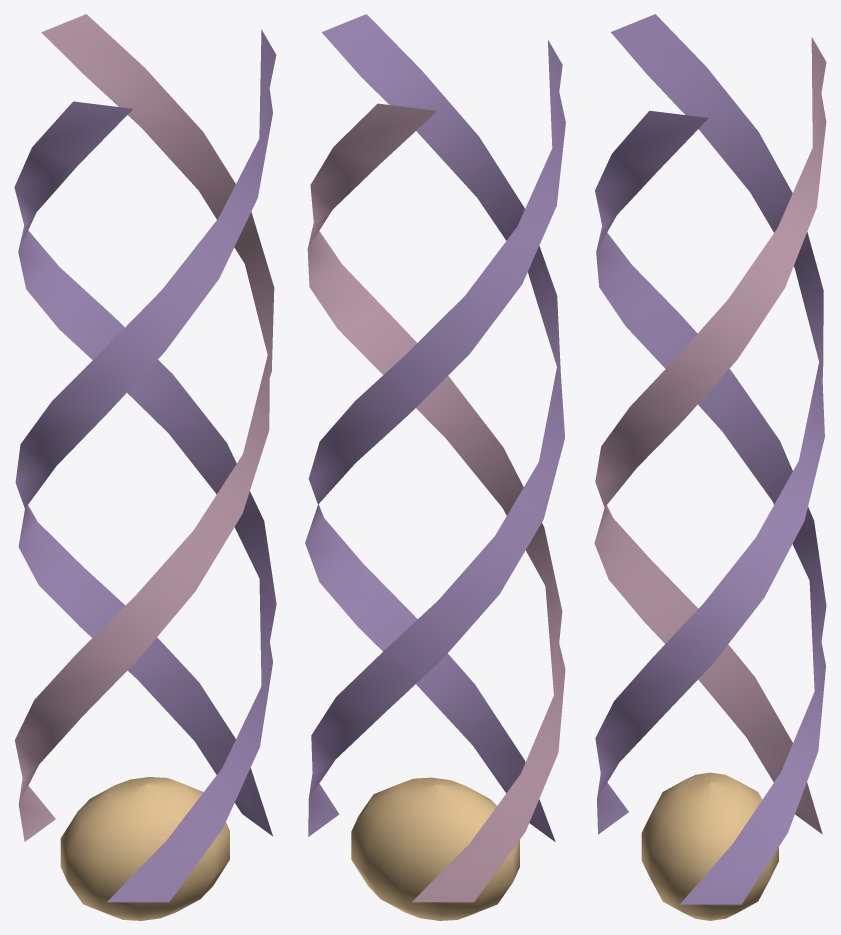
Rendered from orn_breeze_ribbon.glb.
3 views of the same model, side by side, from view 1: azimuth 30°, elevation 25°; view 2: azimuth 150°, elevation 25°; view 3: azimuth 270°, elevation 25° (orthographic).
Visible parts, largest first — view 1: ORN_breeze_ribbon_floating_silk_1, ORN_breeze_ribbon_floating_silk_0, ORN_breeze_ribbon_floating_silk_2, ORN_breeze_ribbon_knot; view 2: ORN_breeze_ribbon_floating_silk_0, ORN_breeze_ribbon_floating_silk_2, ORN_breeze_ribbon_floating_silk_1, ORN_breeze_ribbon_knot; view 3: ORN_breeze_ribbon_floating_silk_2, ORN_breeze_ribbon_floating_silk_1, ORN_breeze_ribbon_floating_silk_0, ORN_breeze_ribbon_knot.
Boxes of the visible parts, box(x1,y1,x2,y2) form: ORN_breeze_ribbon_floating_silk_1: box(15, 14, 274, 841); ORN_breeze_ribbon_floating_silk_0: box(15, 29, 276, 836); ORN_breeze_ribbon_floating_silk_2: box(14, 101, 276, 902); ORN_breeze_ribbon_knot: box(60, 777, 229, 920); ORN_breeze_ribbon_floating_silk_0: box(308, 14, 564, 836); ORN_breeze_ribbon_floating_silk_2: box(305, 40, 565, 841); ORN_breeze_ribbon_floating_silk_1: box(307, 103, 565, 902); ORN_breeze_ribbon_knot: box(351, 777, 519, 920); ORN_breeze_ribbon_floating_silk_2: box(595, 14, 824, 834); ORN_breeze_ribbon_floating_silk_1: box(594, 37, 826, 834); ORN_breeze_ribbon_floating_silk_0: box(595, 110, 826, 904); ORN_breeze_ribbon_knot: box(641, 772, 778, 920).
Bounding box in the file's own units: 0.6372 × 2.26 × 0.5602.
